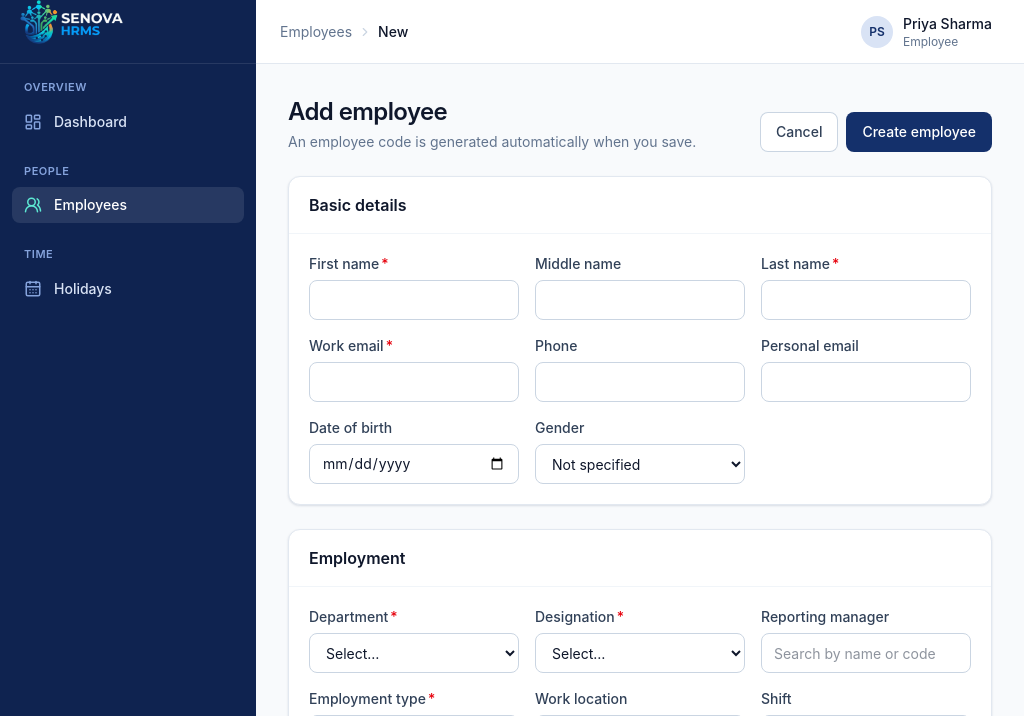
employee form › maps server field errors onto the form
In the field labelled "First name*": coordinates (414, 300) [309, 280, 519, 320], type "Meera"
In the field labelled "Last name*": coordinates (866, 300) [761, 280, 971, 320], type "Iyer"
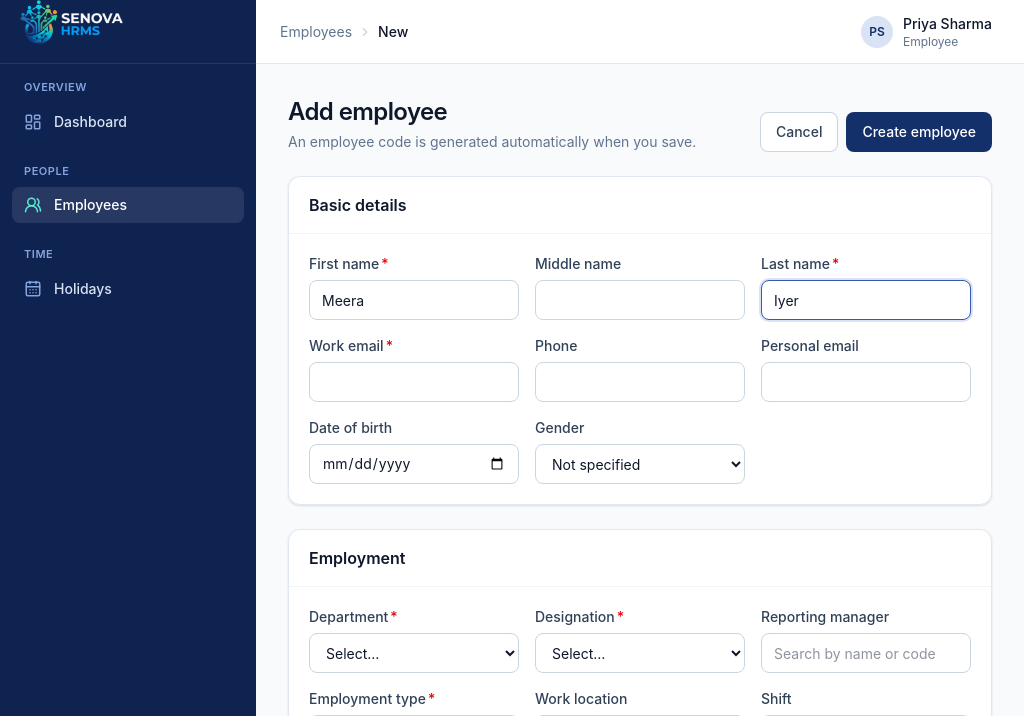
In the field labelled "Work email*": coordinates (414, 382) [309, 362, 519, 402], type "taken@senova.test"
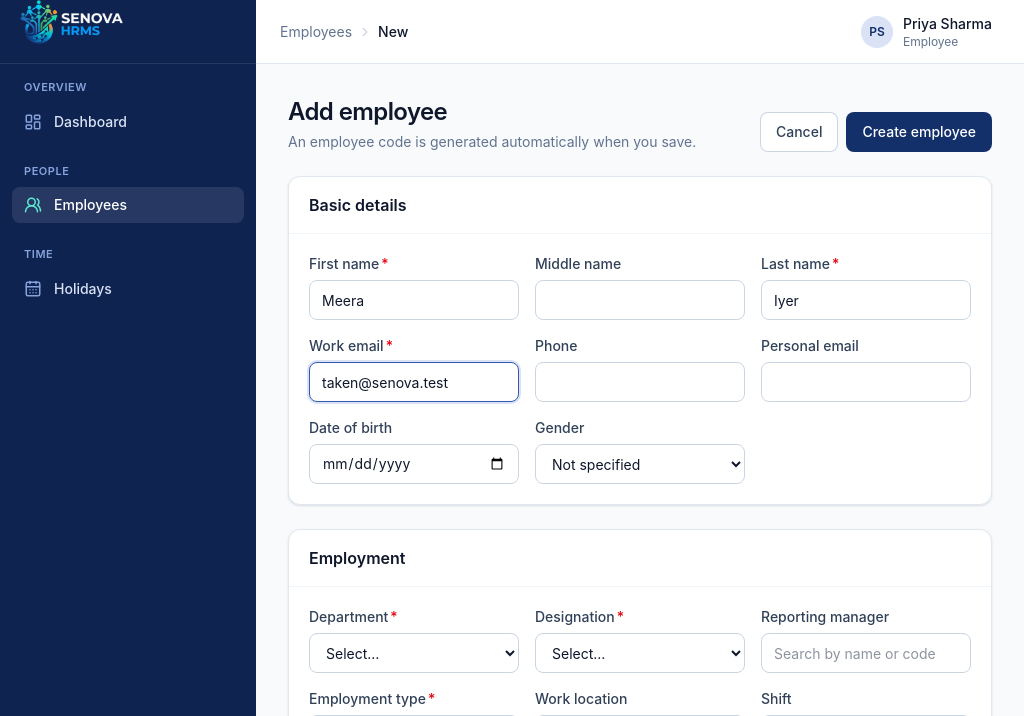
Select "Engineering" in the dropdown labelled "Department*": coordinates (414, 653) [309, 633, 519, 673]
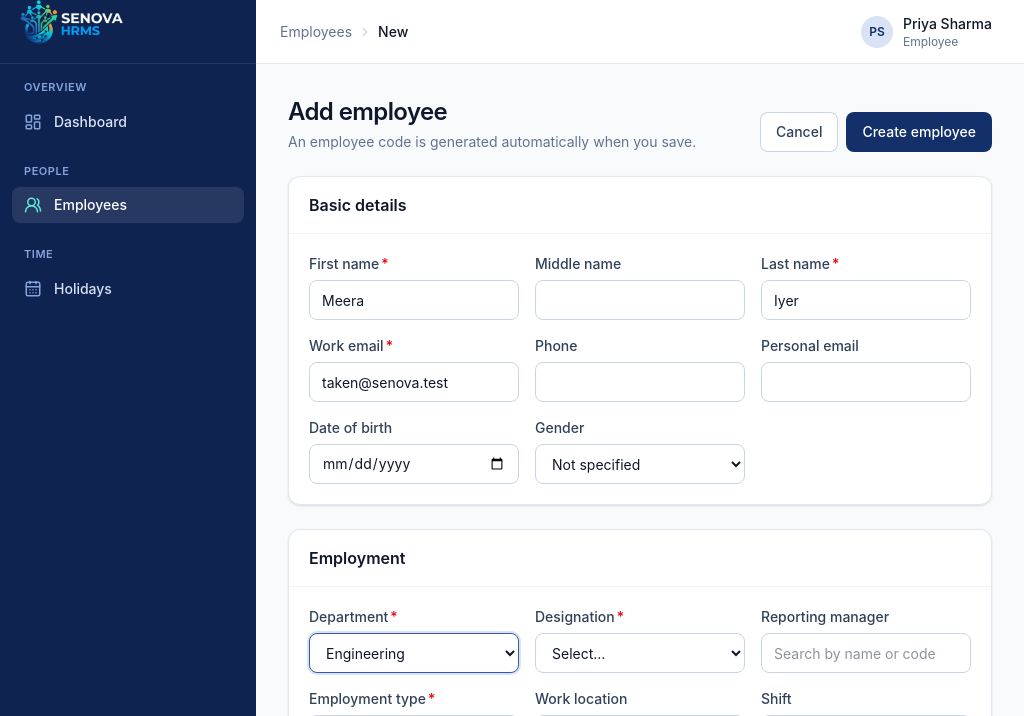
Select "Software Engineer" in the dropdown labelled "Designation*": coordinates (640, 653) [535, 633, 745, 673]
(page scrolled)
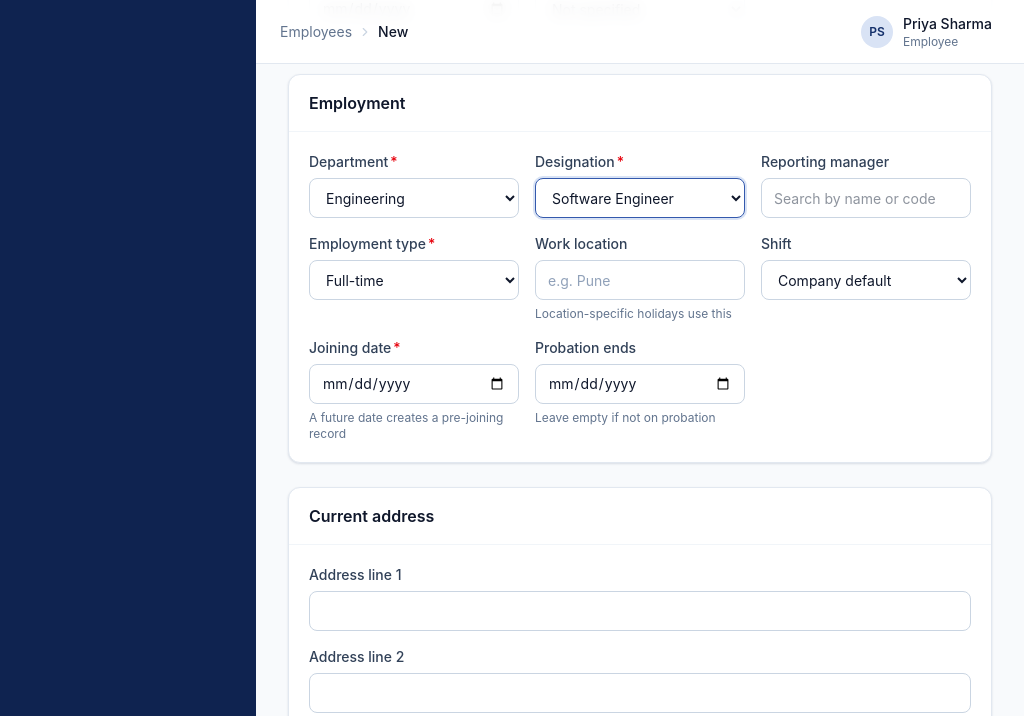
In the date field labelled "Joining date*": coordinates (414, 384) [309, 364, 519, 404], type "2025-04-01"
(page scrolled)
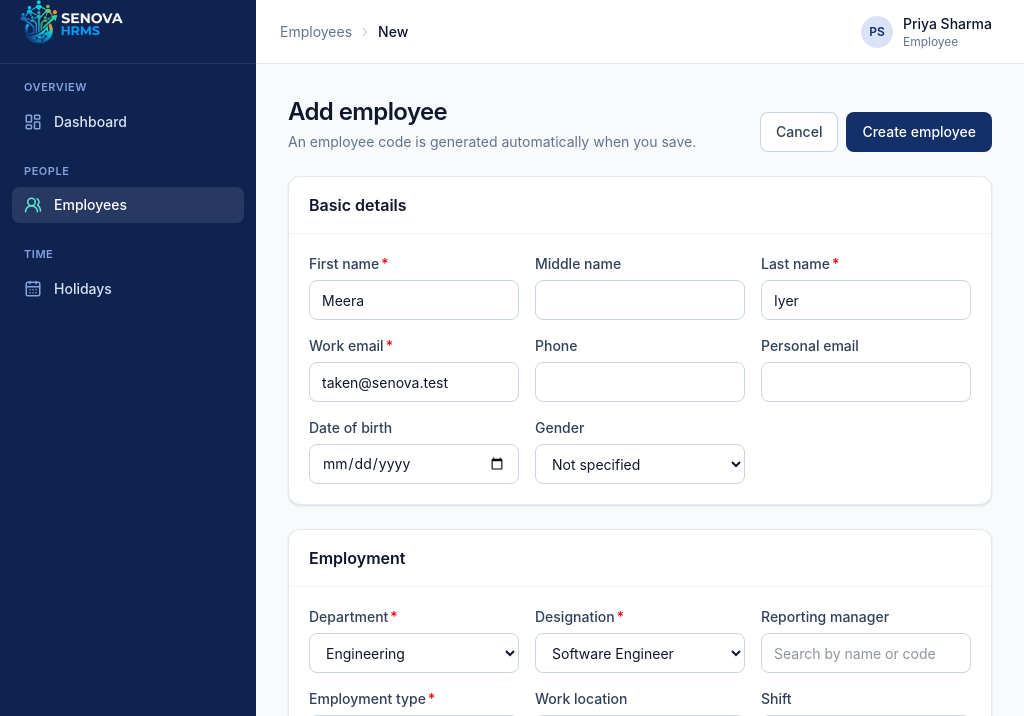
Click the button "Create employee": coordinates (919, 132) [846, 112, 992, 152]
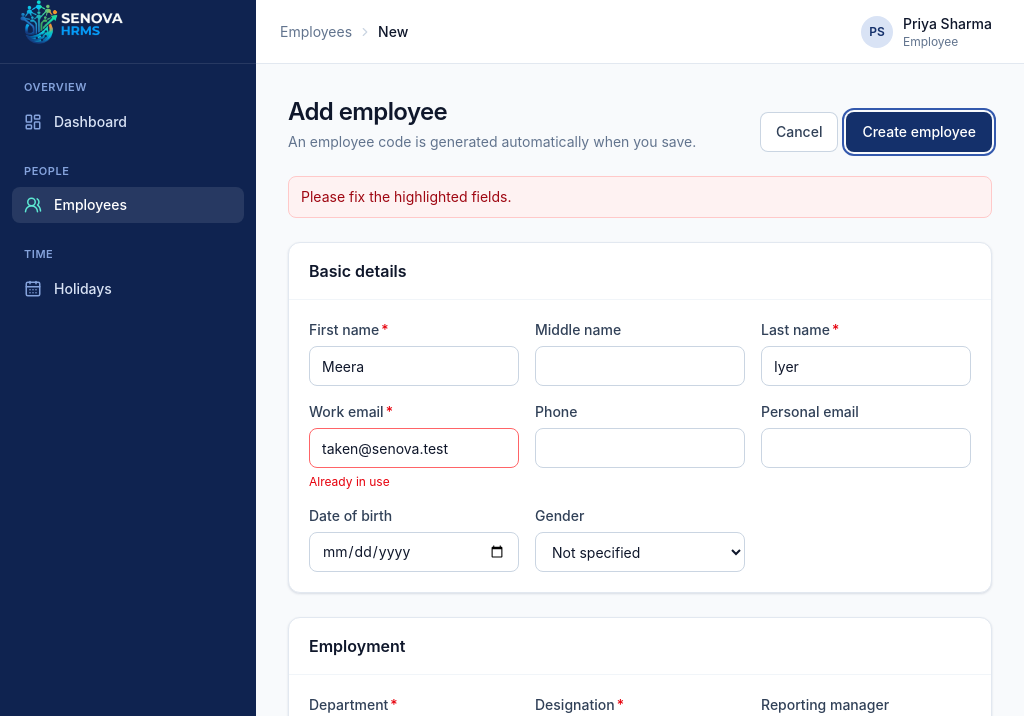
Result: the text "Already in use" is shown at [309, 474, 390, 489]
